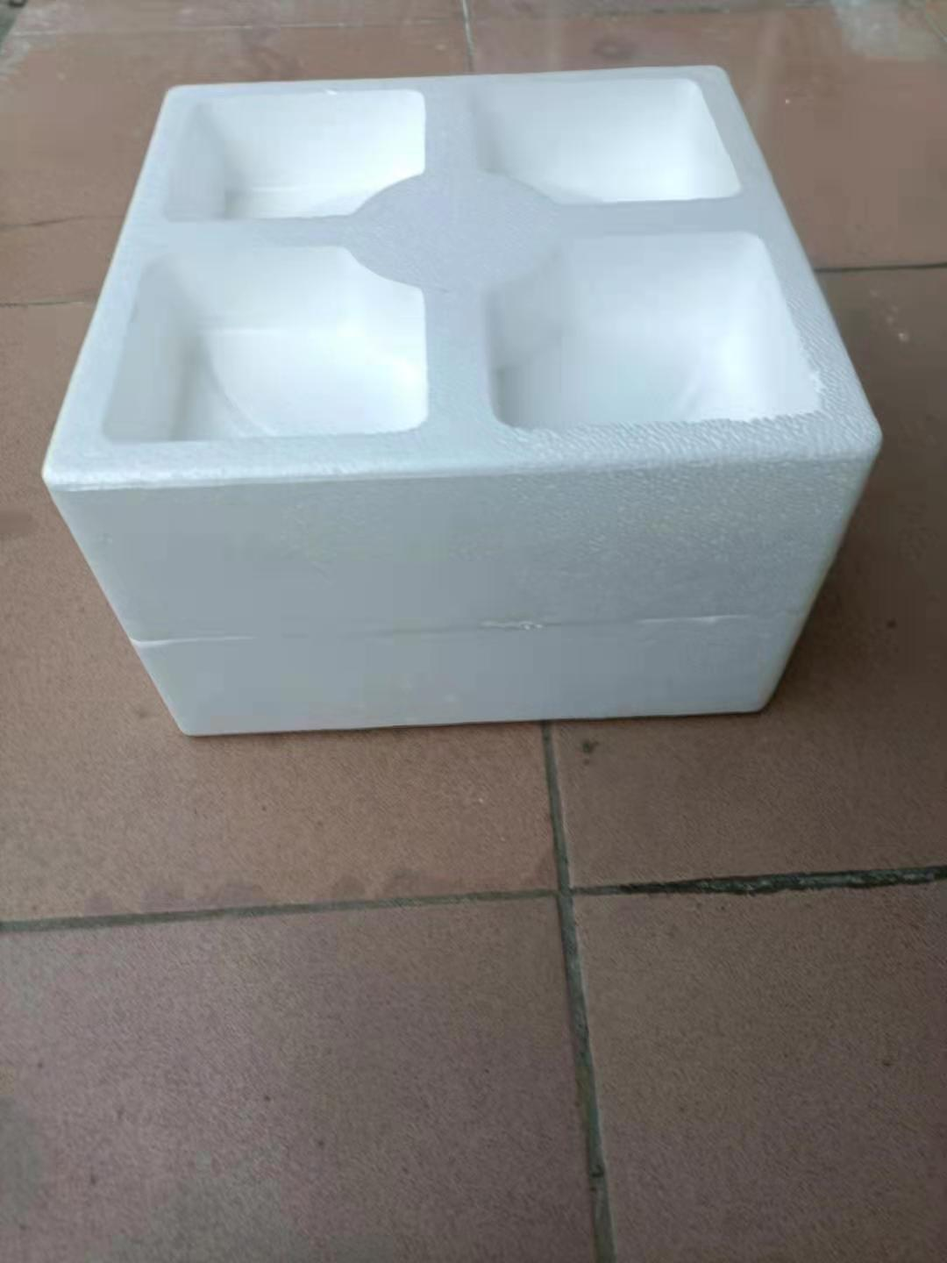Boxes: (44, 69, 879, 735)
